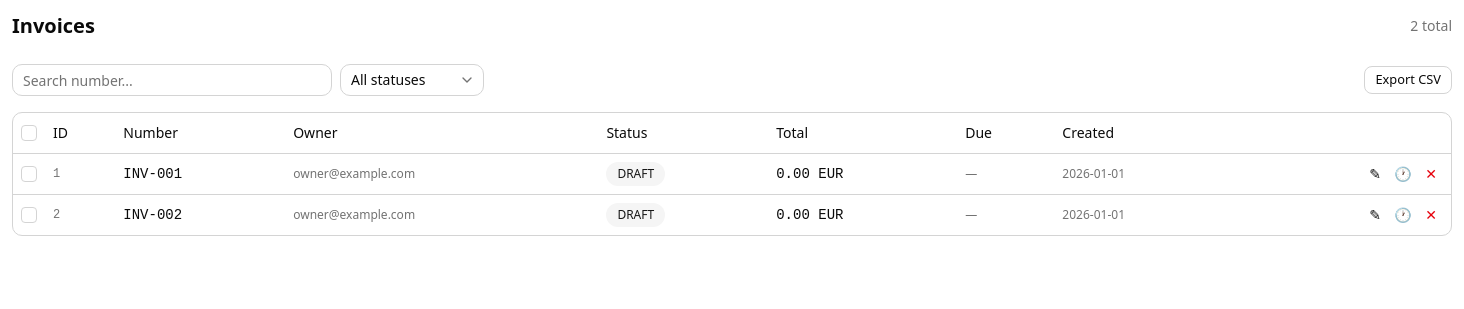
Test case: AdminInvoicesTable › selects and deselects all rows via the header checkbox
Expected: the text "INV-001" is shown, [115,153,285,194]
Expected: the text "INV-002" is shown, [115,194,285,234]
Click the checkbox next to "ID" at (29, 133), box [21,125,37,141]
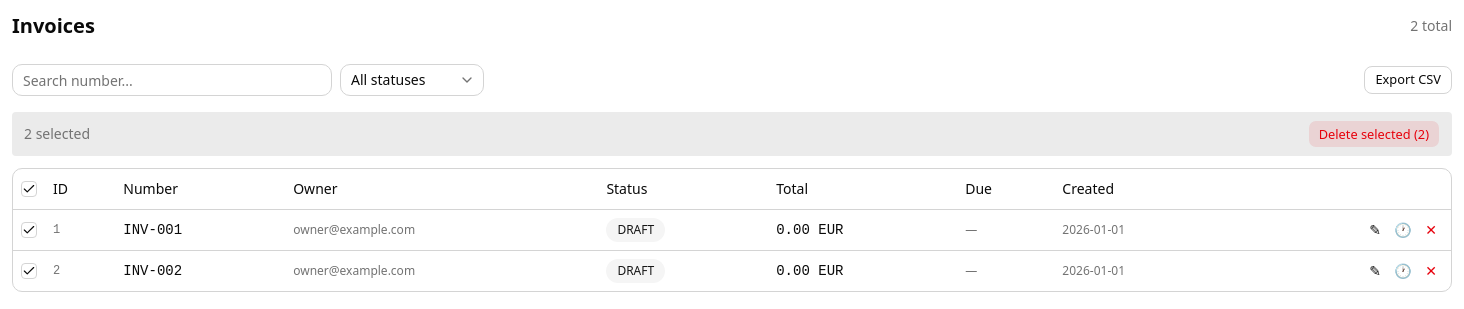
Expected: the text "2 selected" is shown, [24,124,90,144]
Click the checkbox next to "ID" at (29, 189), box [21,181,37,197]
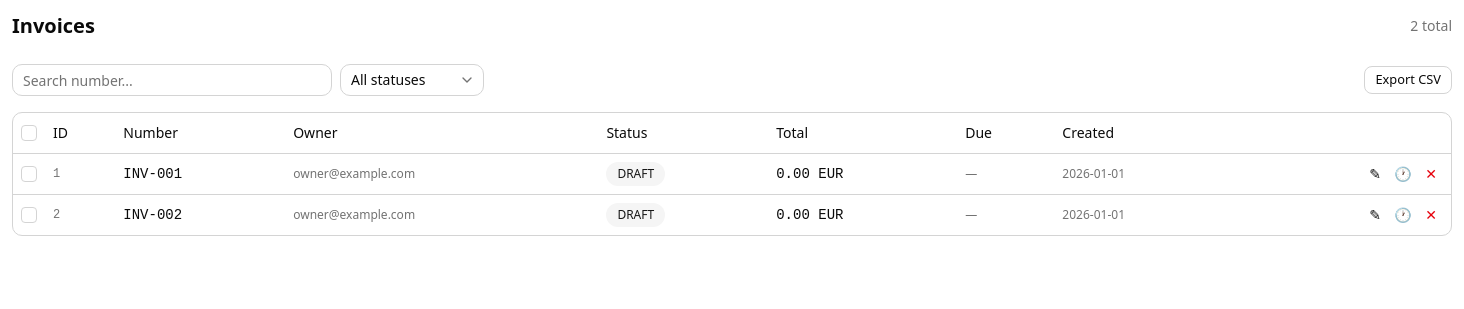
Expected: the text "2 selected" is gone
